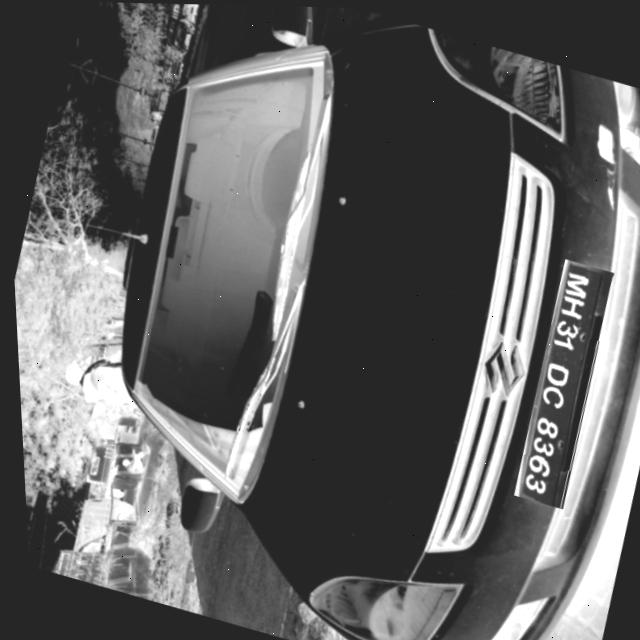Non_registered: (499, 254, 621, 507)
